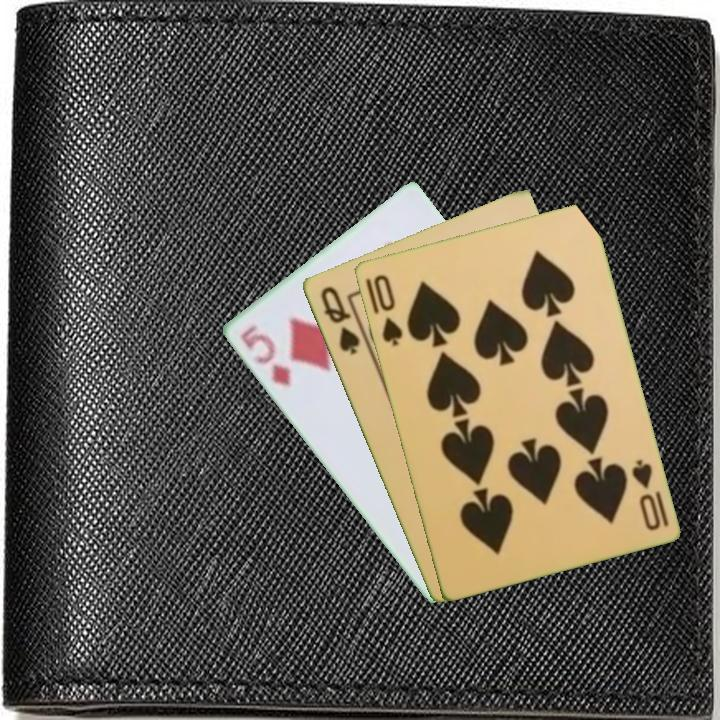10s: (627, 455, 671, 533), (369, 271, 405, 349)
5d: (236, 321, 294, 390)
Qs: (316, 282, 363, 358)
